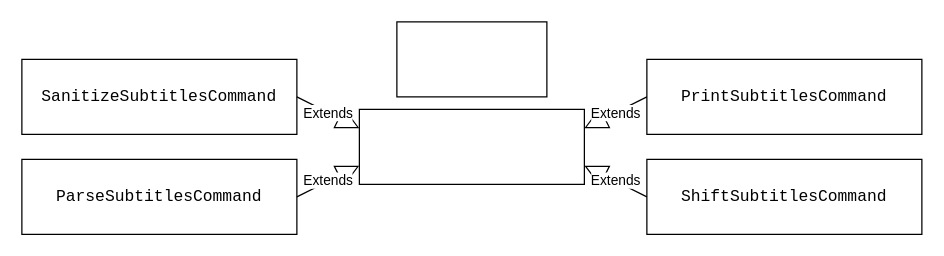
This 944x256 diagram has some shape labels left out. Here are the shapes that lost their labels. From the top down, the box of each, then its label:
(396, 21, 547, 97): Subtitle
(358, 108, 584, 184): CommandAbstract
